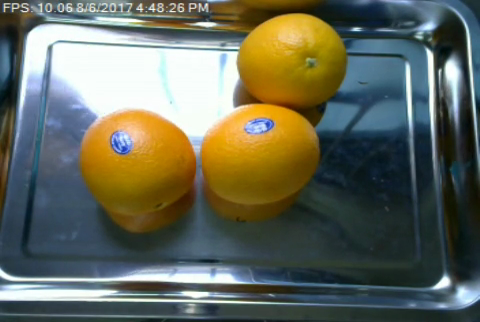Orange: (79, 109, 194, 215), (199, 104, 319, 204), (235, 13, 349, 106)
